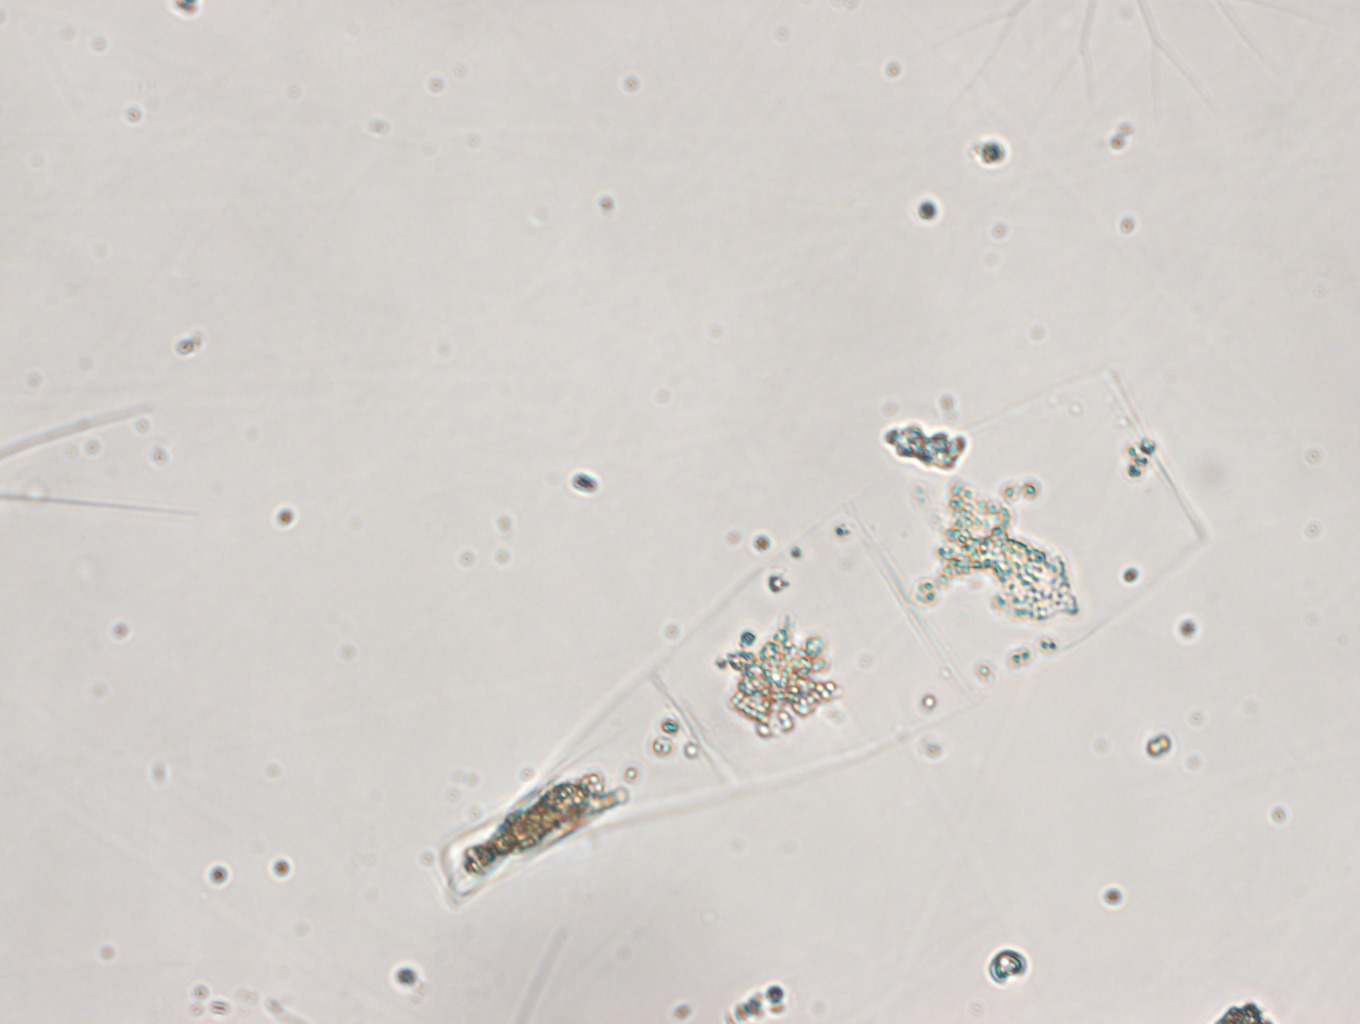helicotheca: (439, 365, 1207, 909)
